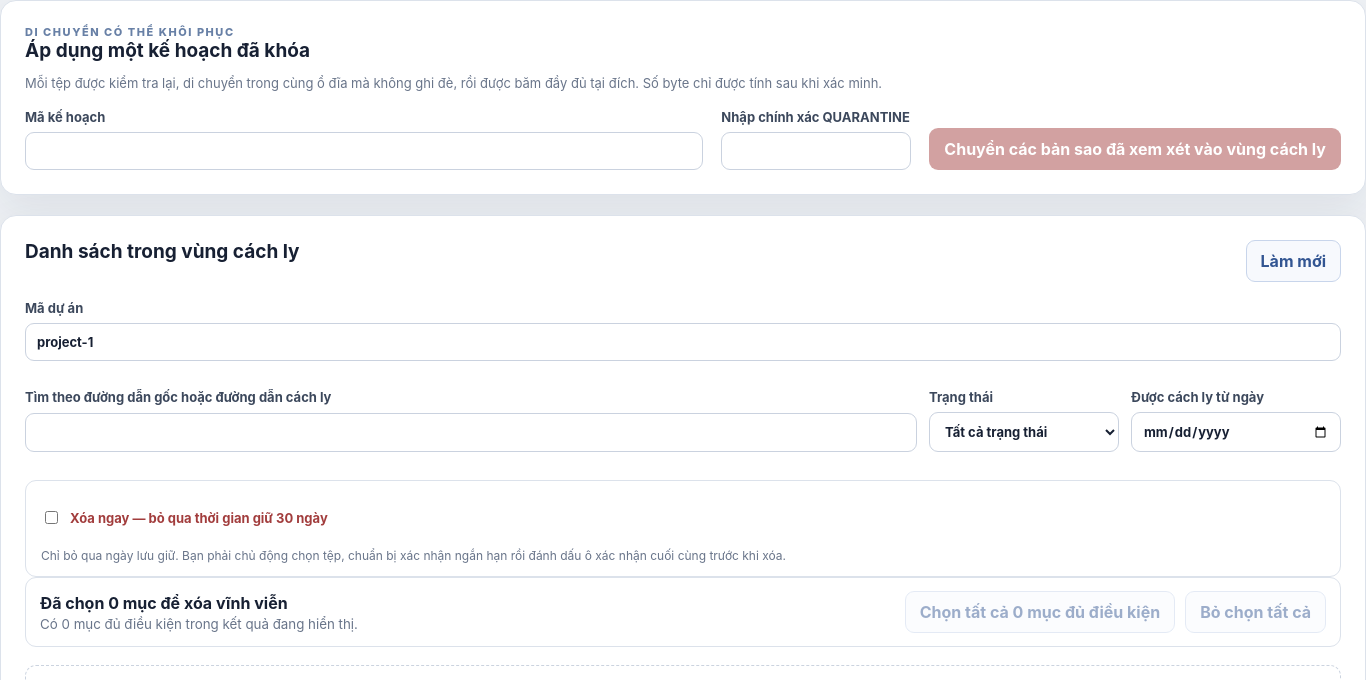
Scenario: desktop workflows › selects and clears all eligible visible quarantine entries in one action
The image size is (1366, 680).
Step 1. Click the button "Làm mới" → (1293, 261), box [1246, 240, 1341, 282]
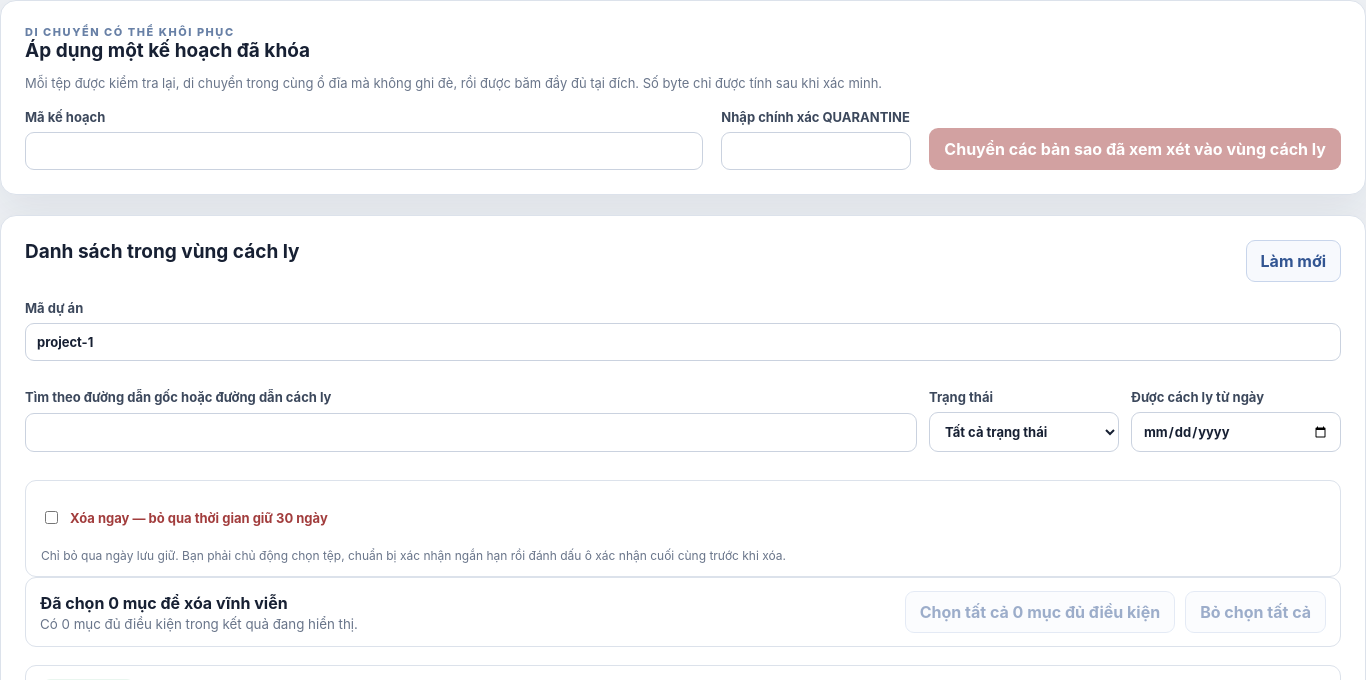
Step 2. Click the checkbox named "Bật chế độ Xóa ngay" → (52, 518), box [45, 511, 58, 524]
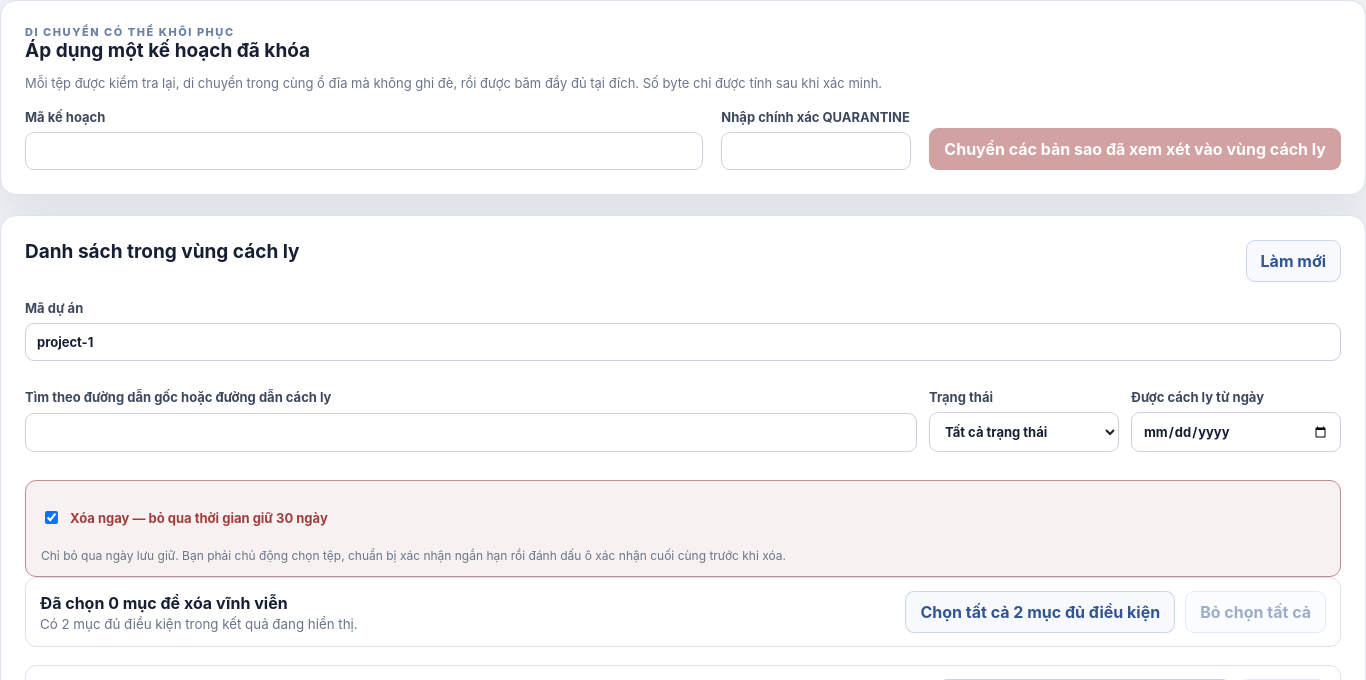
Step 3. Click the button "Chọn tất cả 2 mục đủ điều kiện" → (1040, 612), box [905, 591, 1175, 633]
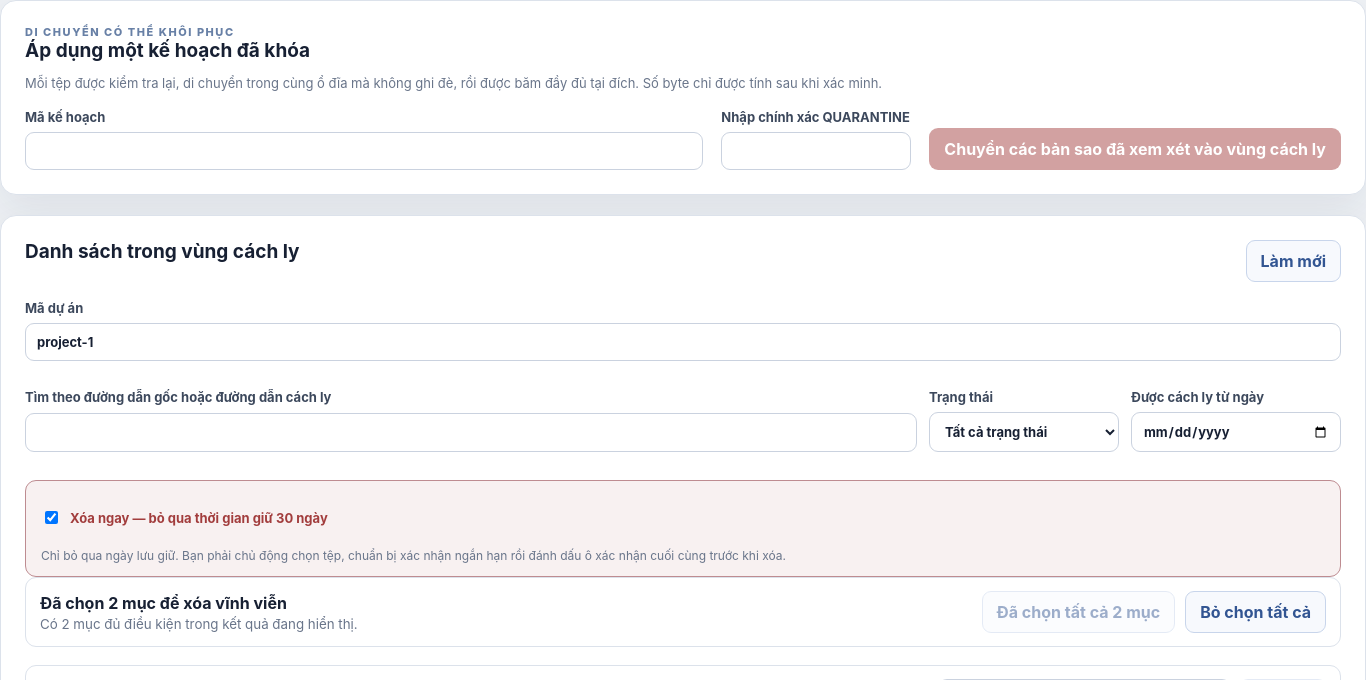
Check: the text "Đã chọn 2 mục để xóa vĩnh viễn" is shown, box [40, 592, 287, 612]
Step 4. Click the button "Bỏ chọn tất cả" → (1256, 612), box [1185, 591, 1326, 633]
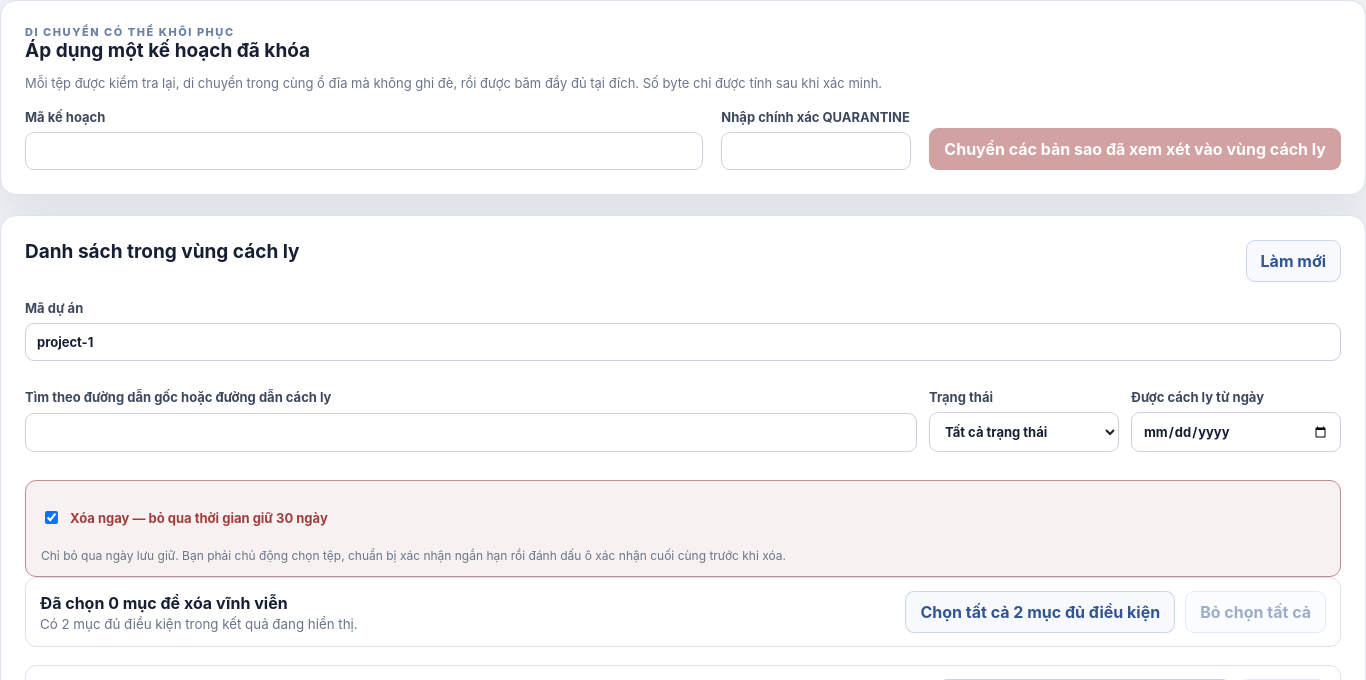
Check: the text "Đã chọn 0 mục để xóa vĩnh viễn" is shown, box [40, 592, 288, 612]
